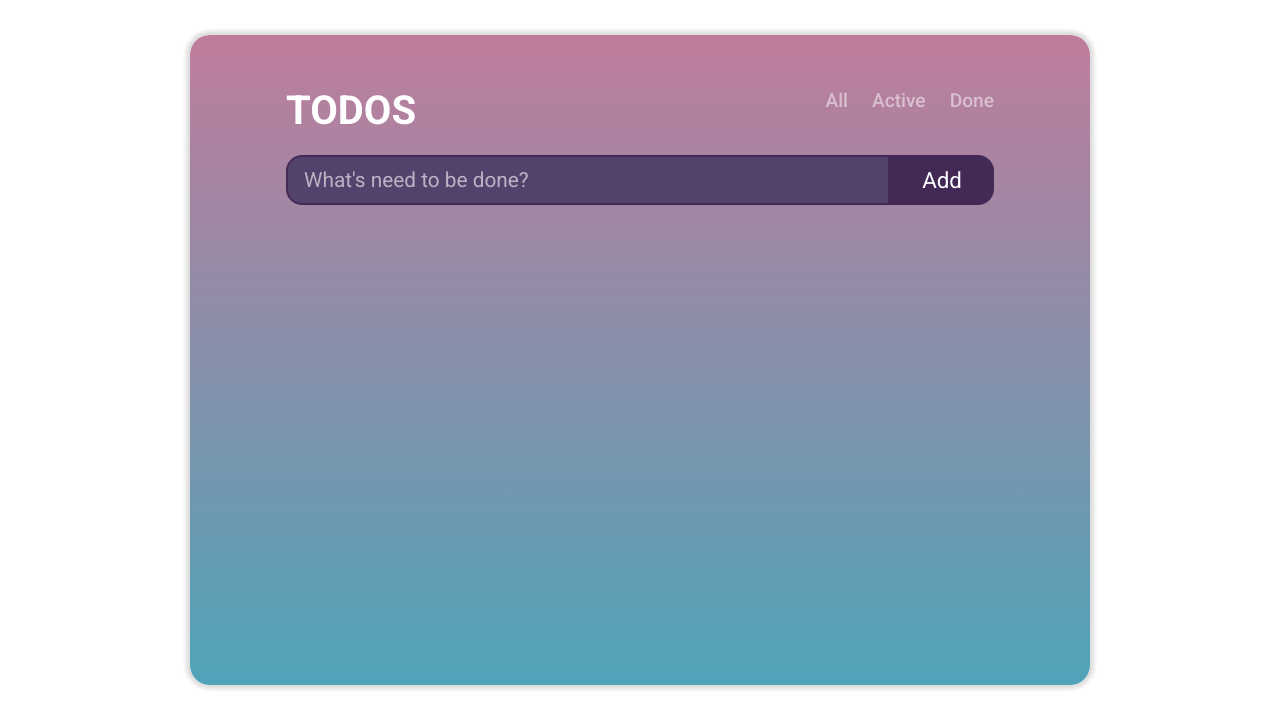
Scenario: Todo actions › Add todo
Expected: the text "Test Todo" is not shown
In the field with test id "add-todo-input": point(588, 180) [286,155,890,205], type "Test Todo"
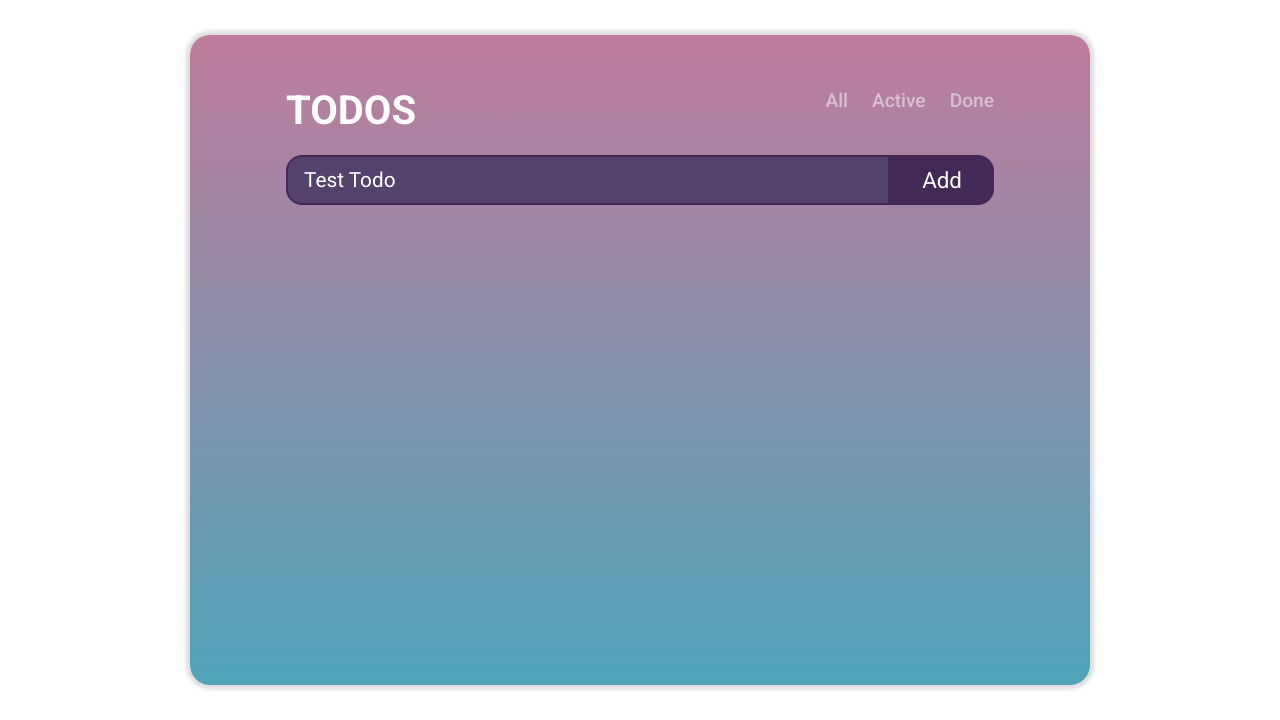
Click the button with test id "add-todo-btn": point(942, 180) [890,155,994,205]
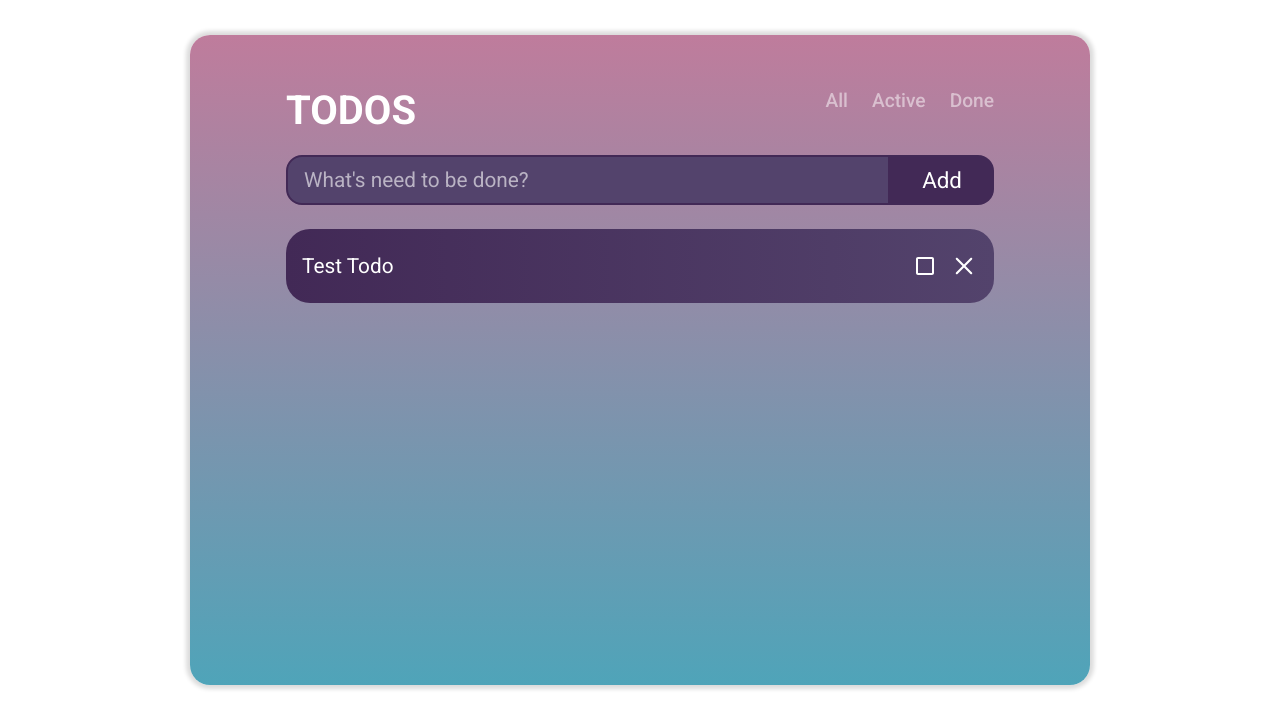
Expected: the list item "Test Todo" is shown, [286,229,994,303]
